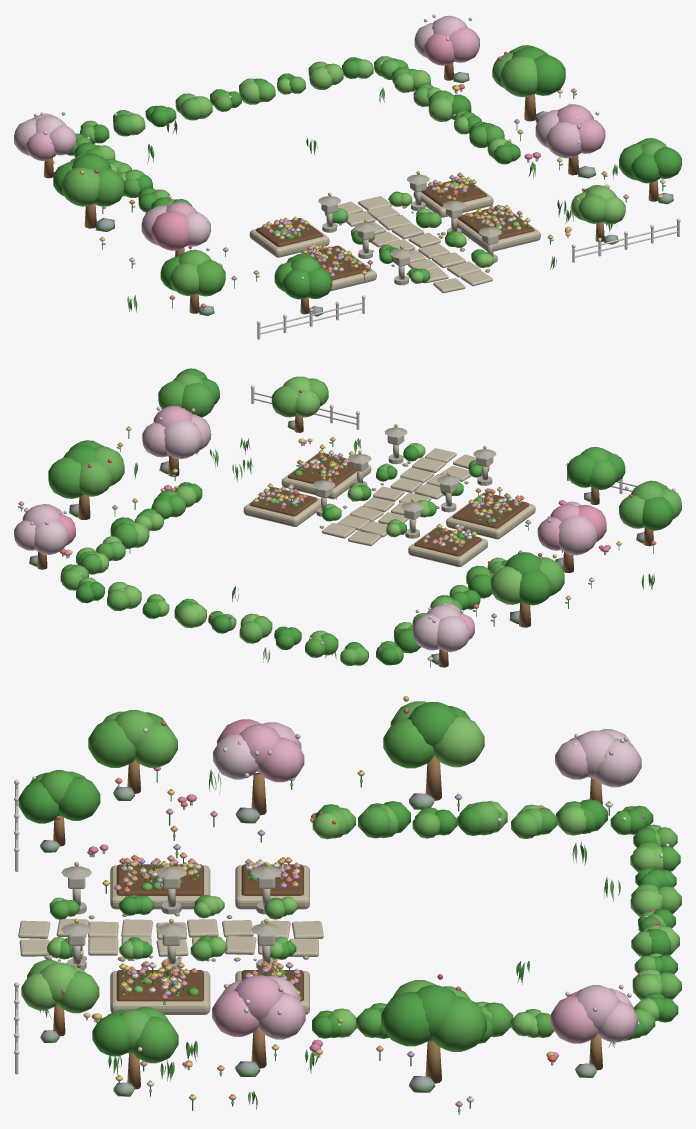
File: gym_garden_lite.glb
3 renders of one model, top to bottom at view 1: azimuth 30°, elevation 25°; view 2: azimuth 150°, elevation 25°; view 3: azimuth 270°, elevation 25°, orthographic. The views are drawn at different scales.
Parts seen in each view (by area): view 1: Cube; view 2: Cube; view 3: Cube.
Part boxes in pixels (bbox=[...]): Cube: bbox=[14, 14, 681, 339]; Cube: bbox=[14, 368, 681, 667]; Cube: bbox=[14, 696, 681, 1114].
Size of the model in its own units: 33.02 by 5.09 by 26.75.
